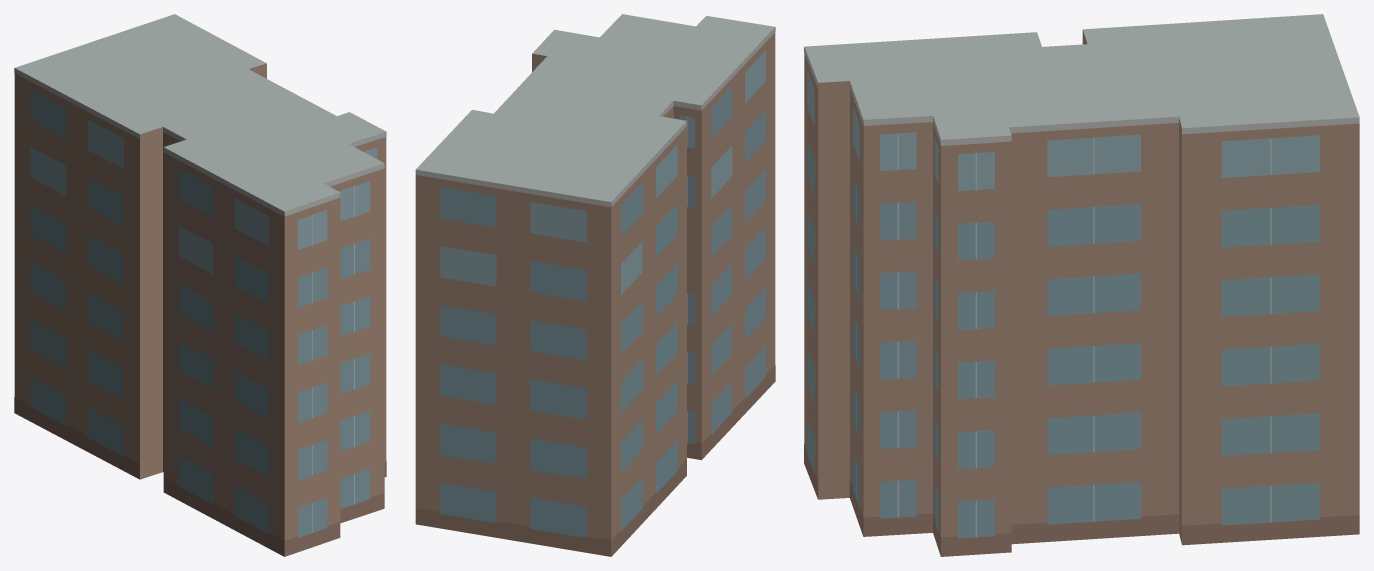
File: survey-upis-32630478.glb
3 views of the same model, side by side, from view 1: azimuth 30°, elevation 25°; view 2: azimuth 150°, elevation 25°; view 3: azimuth 270°, elevation 25° (orthographic). The views are drawn at different scales.
Visible parts, largest first — view 1: survey-upis-32630478.tmp; view 2: survey-upis-32630478.tmp; view 3: survey-upis-32630478.tmp.
Boxes of the visible parts, left/top/right/bottom form: survey-upis-32630478.tmp: left=14, top=14, right=386, bottom=556; survey-upis-32630478.tmp: left=415, top=14, right=775, bottom=556; survey-upis-32630478.tmp: left=804, top=14, right=1359, bottom=556.
Size of the model in its own units: 10.83 by 16.7 by 20.18.
